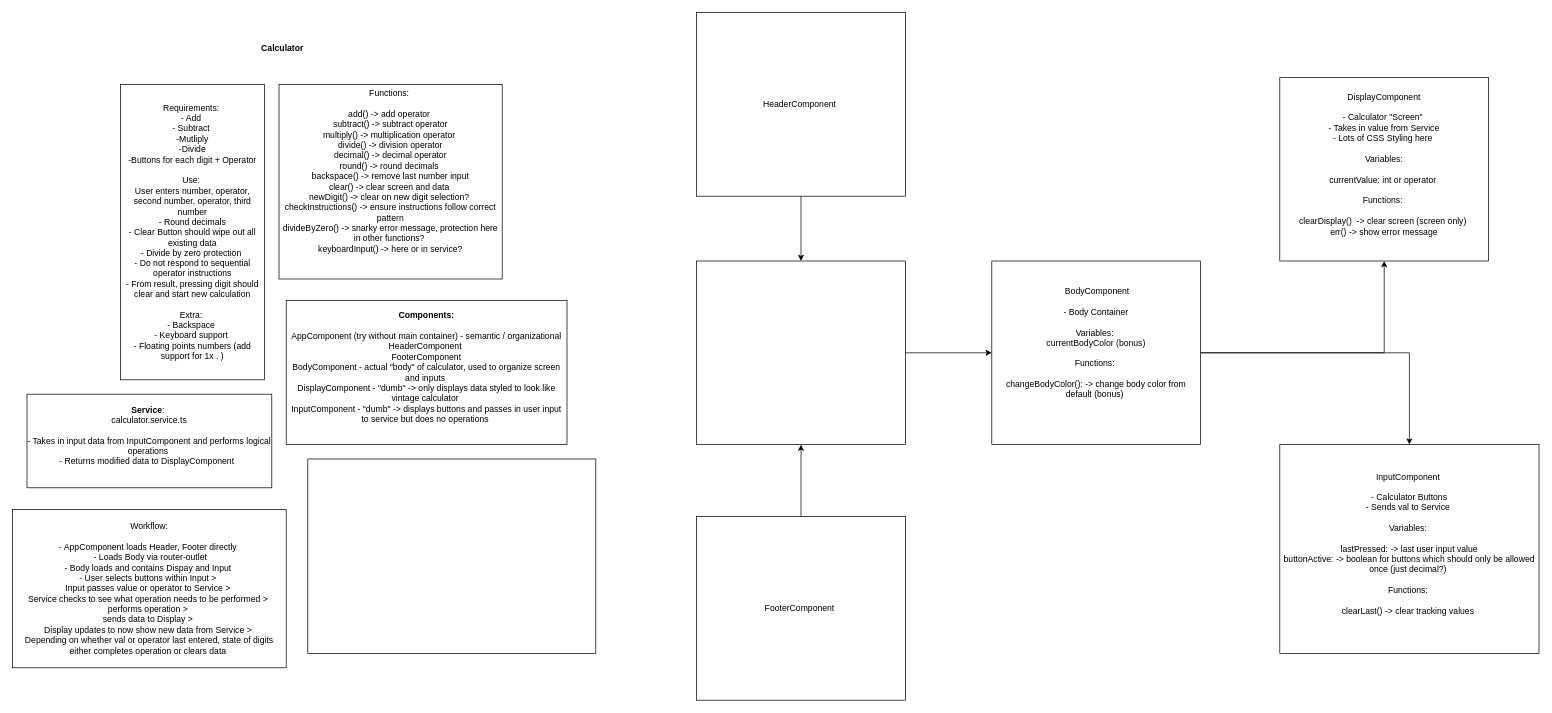
This 1552x713 diagram has some shape labels left out. Here are the shapes that lost their labels. From the top down, the centre of each, then its label:
point 800,352: AppComponent
point 451,555: Input > Service Communication: Service > Display Communication:
